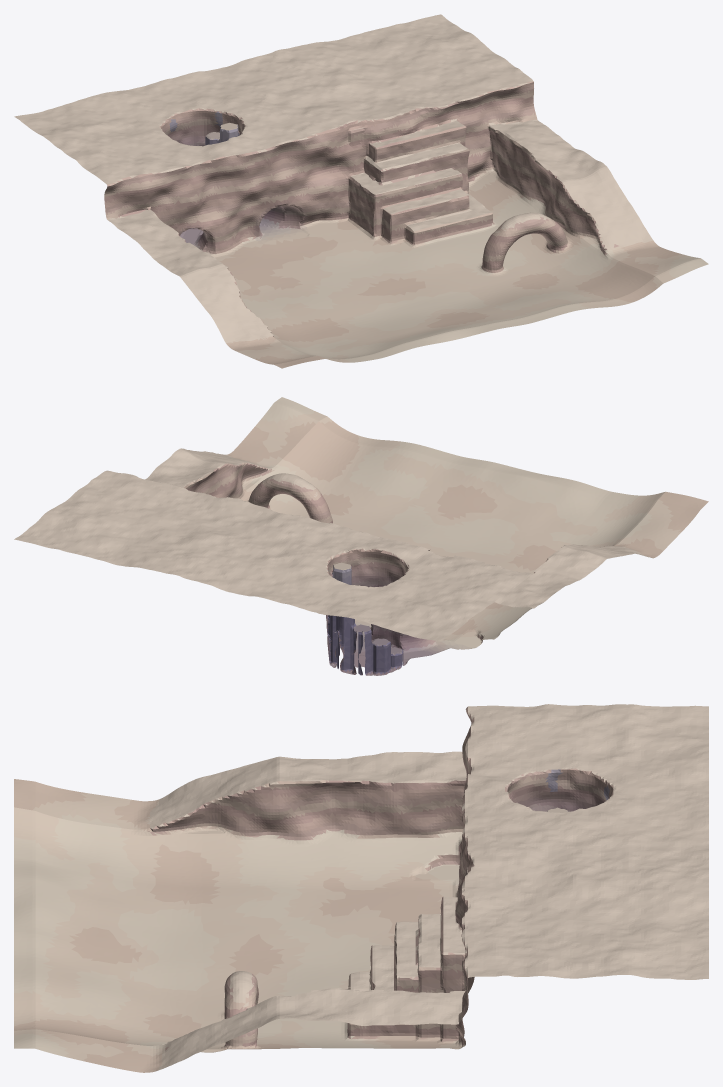
The model's file is terrain.glb.
3 renders of one model, top to bottom at view 1: azimuth 30°, elevation 25°; view 2: azimuth 150°, elevation 25°; view 3: azimuth 270°, elevation 25°, orthographic. The views are drawn at different scales.
Parts seen in each view (by area): view 1: terrain-col; view 2: terrain-col; view 3: terrain-col.
Boxes of the visible parts, x1,y1,x2,y2 form: terrain-col: (14,14,708,368); terrain-col: (14,397,708,675); terrain-col: (14,704,708,1072).
Size of the model in its own units: 68.31 by 14.87 by 74.25.
